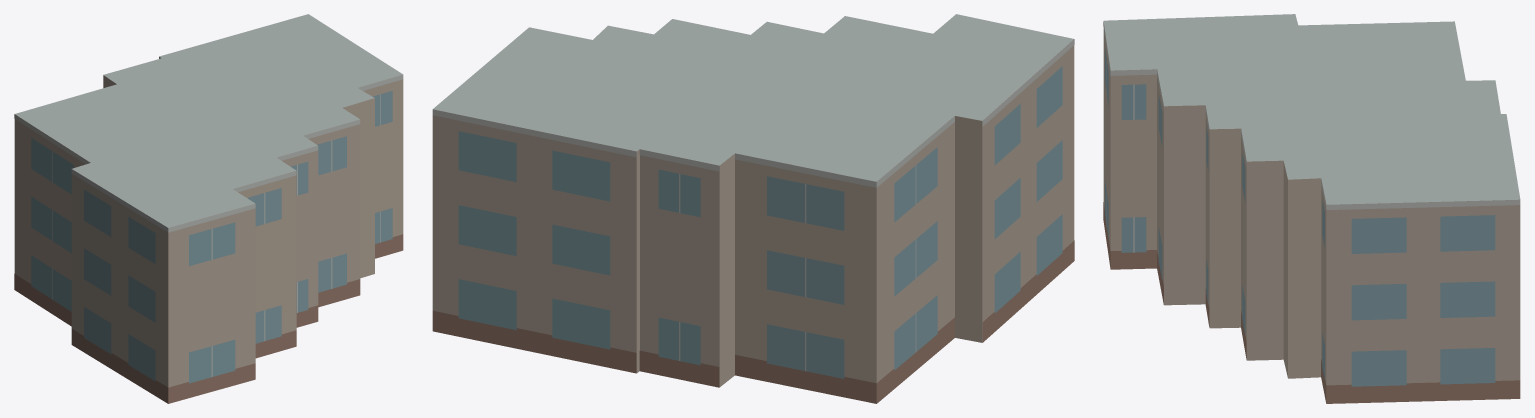
File: survey-upis-32905422.glb
3 renders of one model, left to right at view 1: azimuth 30°, elevation 25°; view 2: azimuth 150°, elevation 25°; view 3: azimuth 270°, elevation 25°, orthographic. The views are drawn at different scales.
Parts seen in each view (by area): view 1: survey-upis-32905422.tmp; view 2: survey-upis-32905422.tmp; view 3: survey-upis-32905422.tmp.
Boxes of the visible parts, x1,y1,x2,y2 form: survey-upis-32905422.tmp: [14, 14, 403, 403]; survey-upis-32905422.tmp: [432, 14, 1074, 403]; survey-upis-32905422.tmp: [1103, 14, 1520, 403].
Bounding box in the file's own units: 18.82 × 9.15 × 17.38.
